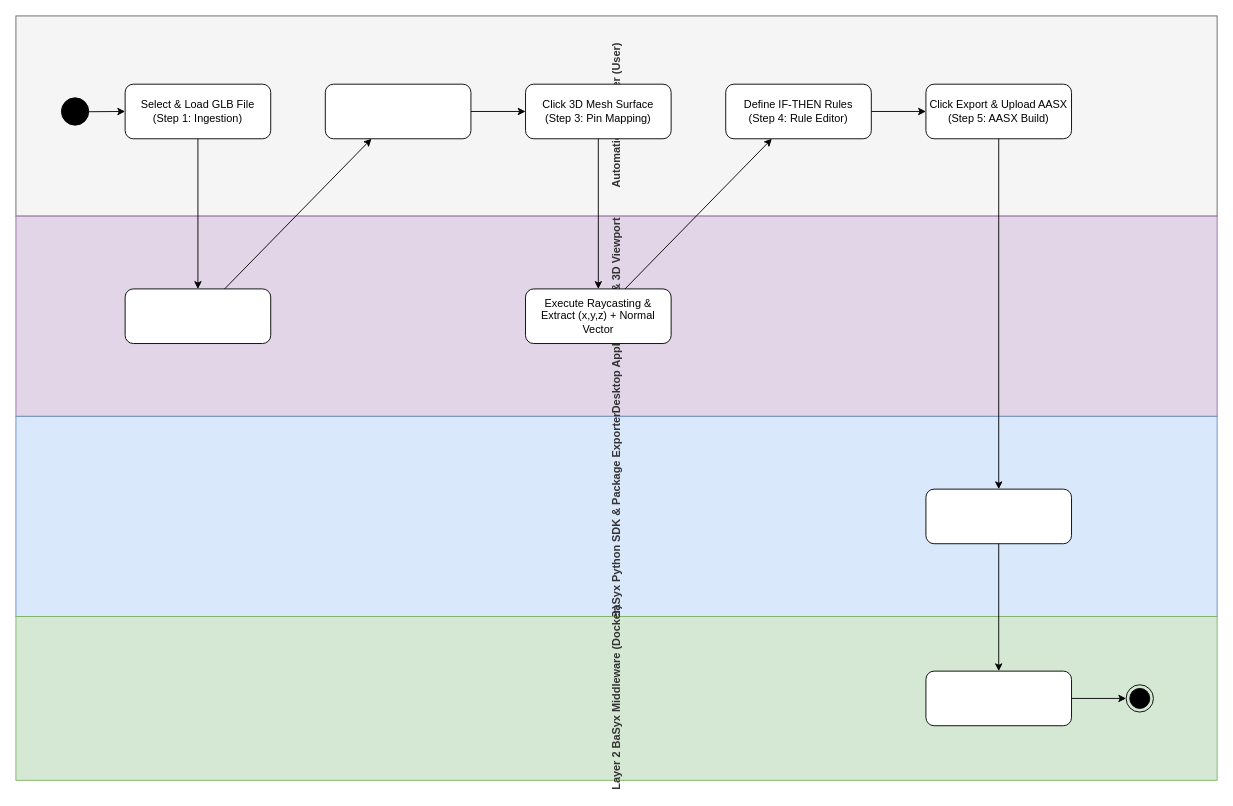
This 1233x806 diagram has some shape labels left out. The shapes that lost their labels are listed below. From the top down, each one's centre as x and y in pixels, then its label:
At (x=397, y=111): "Configure Motion & Pivots (Step 2: Kinematics)".
At (x=197, y=316): "Render 3D Viewport & Extract Node Hierarchy Tree".
At (x=998, y=516): "Instantiate 5 AAS Submodels & Pack .aasx OPC Archive".
At (x=998, y=698): "Store AAS Package & Register AAS/Submodel Descriptors".
